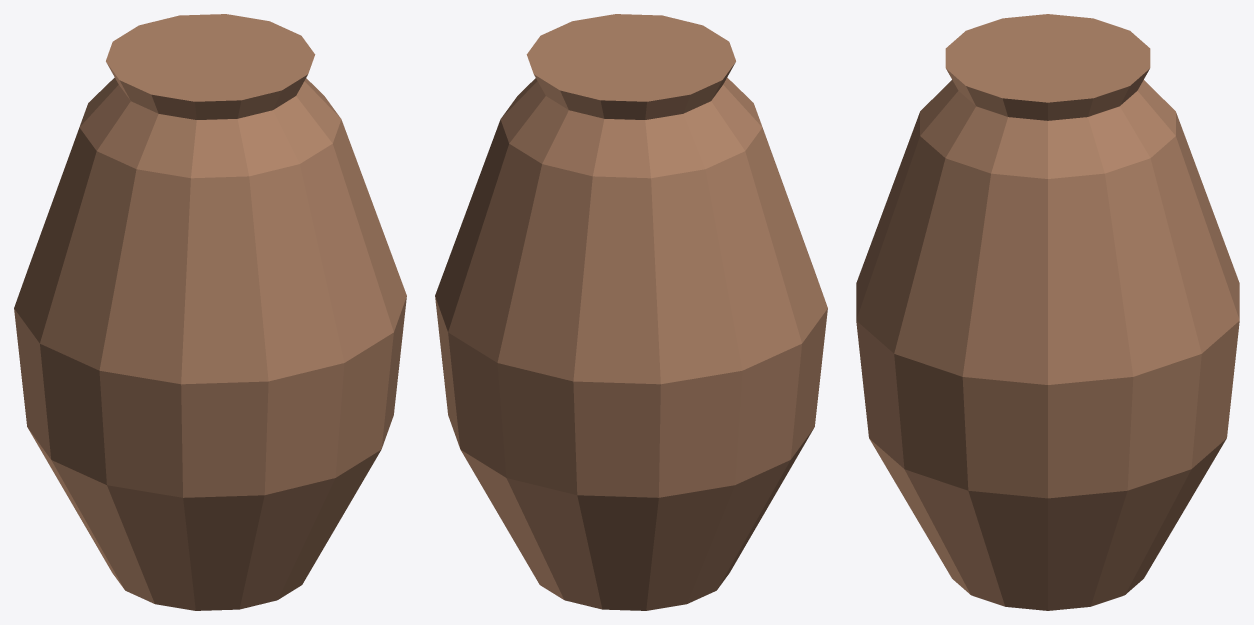
The model's file is clay_jar.glb.
The picture shows the model from 3 angles, left to right: view 1: azimuth 30°, elevation 25°; view 2: azimuth 150°, elevation 25°; view 3: azimuth 270°, elevation 25°; orthographic projection.
Visible parts, largest first — view 1: Clay_Jar; view 2: Clay_Jar; view 3: Clay_Jar.
Part boxes in pixels (x1,y1,x2,y2): Clay_Jar: [14, 14, 406, 610]; Clay_Jar: [435, 14, 827, 610]; Clay_Jar: [856, 14, 1239, 610].
Bounding box in the file's own units: 0.6 × 0.86 × 0.5849.
